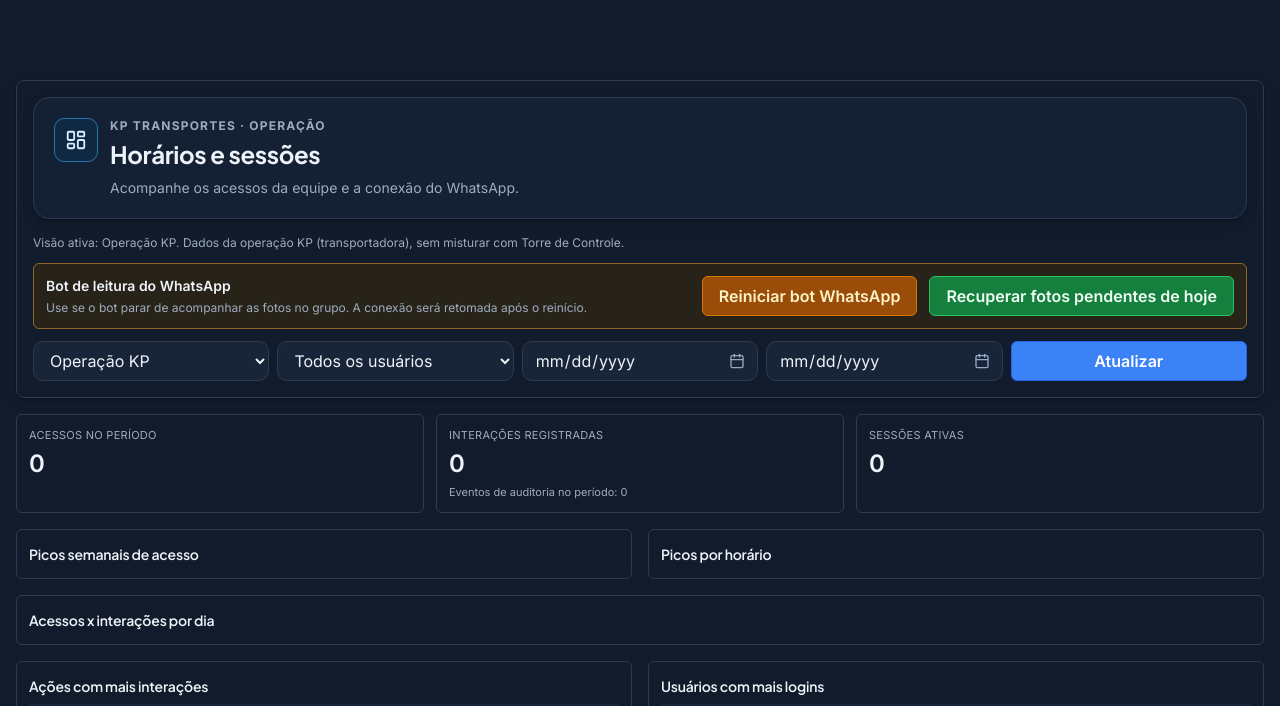
Scenario: falha da recuperação fica visível e permite tentar novamente
The width and height of the screenshot is (1280, 706).
Click the button "Recuperar fotos pendentes de hoje": x=1082, y=296 [929,276,1234,316]
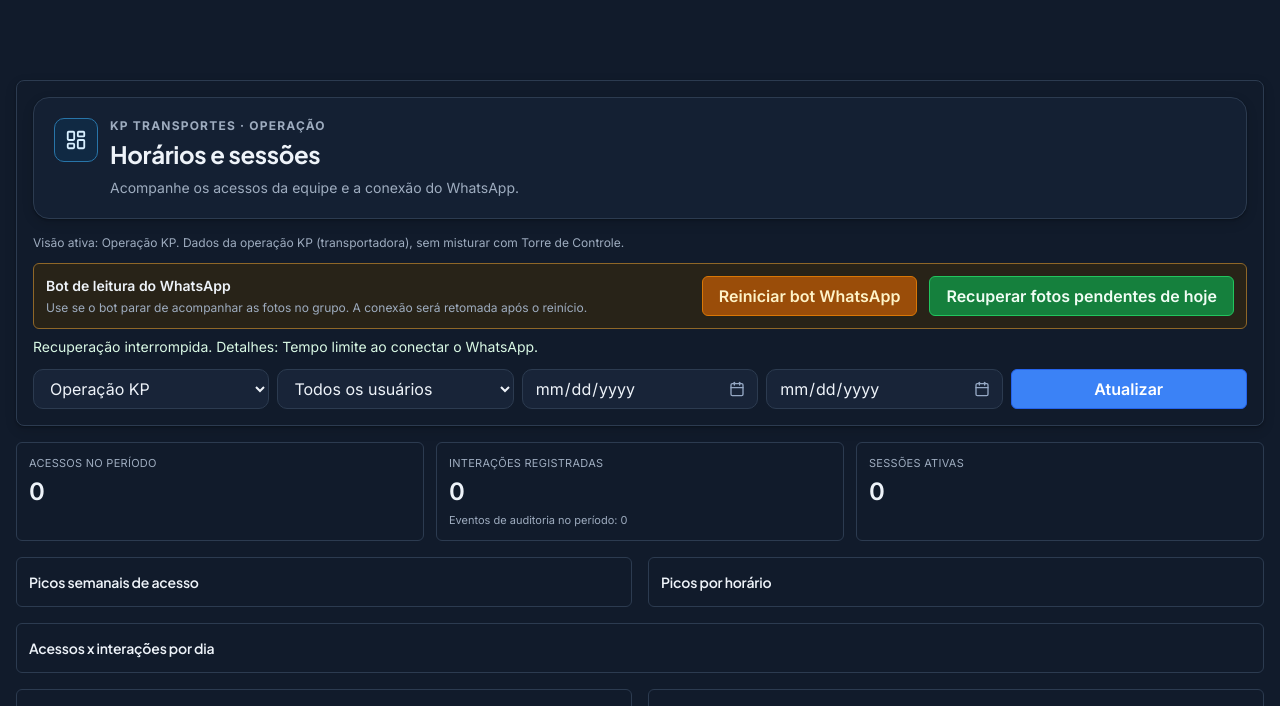
Now the text "Recuperação interrompida. Detalhes: Tempo limite ao conectar o WhatsApp." is shown, box [33,338,538,355]
